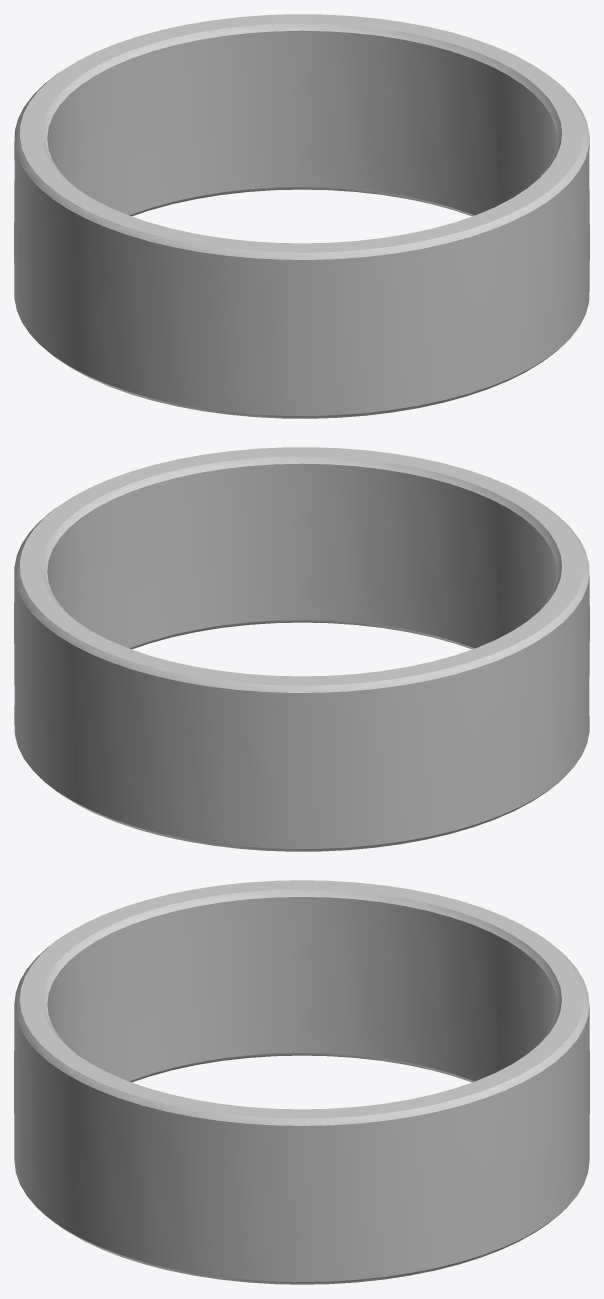
The model's file is Distance_tube.fbx.
3 renders of one model, top to bottom at view 1: azimuth 30°, elevation 25°; view 2: azimuth 150°, elevation 25°; view 3: azimuth 270°, elevation 25°, orthographic.
Parts seen in each view (by area): view 1: Distance_Tube; view 2: Distance_Tube; view 3: Distance_Tube.
Part boxes in pixels (<box>): Distance_Tube: <box>14,14,589,418</box>; Distance_Tube: <box>14,447,589,851</box>; Distance_Tube: <box>14,880,589,1284</box>.
Size of the model in its own units: 31.44 by 10 by 31.44.
Materials: 1 (1 with a texture image).
